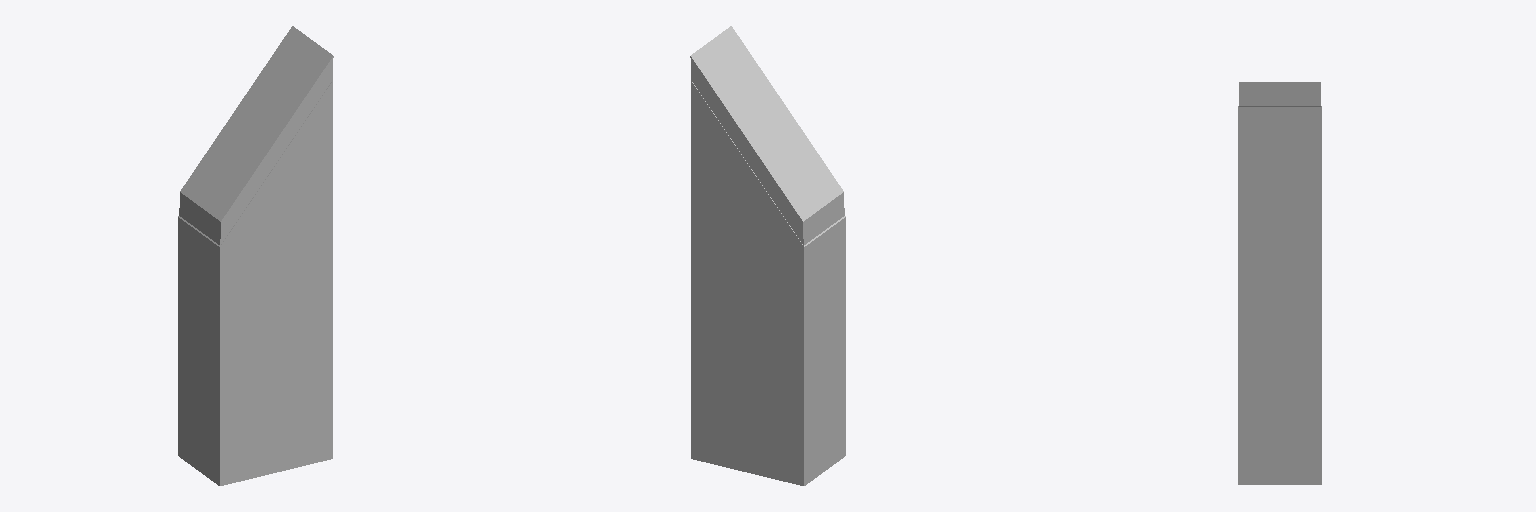
Rendered from slant_section.obj.
3 renders of one model, left to right at view 1: azimuth 30°, elevation 25°; view 2: azimuth 150°, elevation 25°; view 3: azimuth 270°, elevation 25°, orthographic.
Parts seen in each view (by area): view 1: pCube4, pCube5; view 2: pCube4, pCube5; view 3: pCube4, pCube5.
Part boxes in pixels (bbox=[...]): pCube4: bbox=[178, 81, 332, 485]; pCube5: bbox=[179, 26, 333, 245]; pCube4: bbox=[691, 81, 845, 485]; pCube5: bbox=[690, 26, 844, 245]; pCube4: bbox=[1238, 106, 1321, 484]; pCube5: bbox=[1239, 82, 1320, 106].
Size of the model in its own units: 0.9483 by 3.2 by 0.5984.